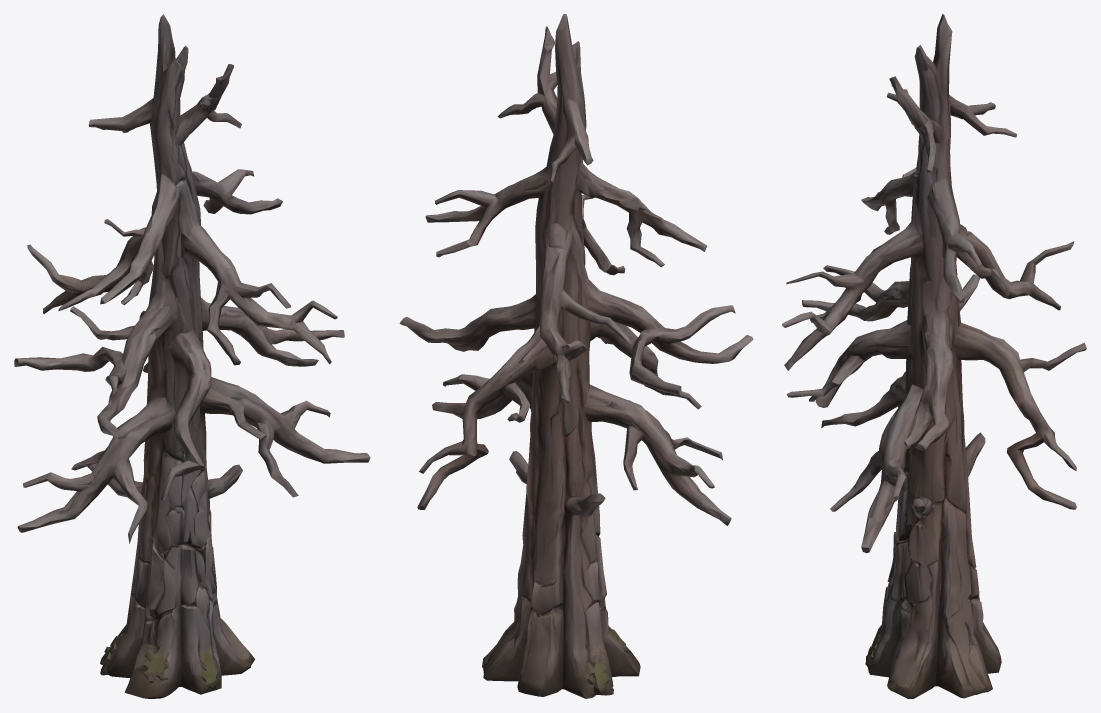
Rendered from tree_dead_burnt_idle.glb.
The picture shows the model from 3 angles, left to right: view 1: azimuth 30°, elevation 25°; view 2: azimuth 150°, elevation 25°; view 3: azimuth 270°, elevation 25°; orthographic projection.
Visible parts, largest first — view 1: tripo_node_ddd91b06-6dfa-4d5e-9879-f63371352e4c; view 2: tripo_node_ddd91b06-6dfa-4d5e-9879-f63371352e4c; view 3: tripo_node_ddd91b06-6dfa-4d5e-9879-f63371352e4c.
Boxes of the visible parts, box(x1,y1,x2,y2) form: tripo_node_ddd91b06-6dfa-4d5e-9879-f63371352e4c: box(14, 14, 370, 698); tripo_node_ddd91b06-6dfa-4d5e-9879-f63371352e4c: box(399, 14, 753, 698); tripo_node_ddd91b06-6dfa-4d5e-9879-f63371352e4c: box(782, 14, 1086, 698).
Size of the model in its own units: 2.09 by 4 by 1.7.
1 material, 1 textured.
